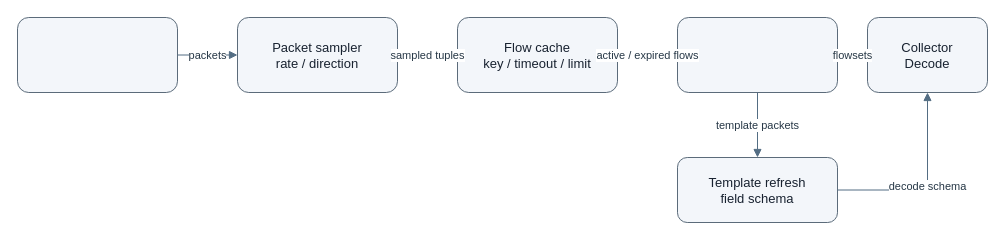
Image size: 1005x240. Some labels were removed from this diagram. The shapes that lost their labels are listed below. From the top down, each one's centre as x and y in pixels, then its label:
point 97,54: FortiSwitch ports / trunks
point 757,54: Exporter NetFlow / IPFIX
